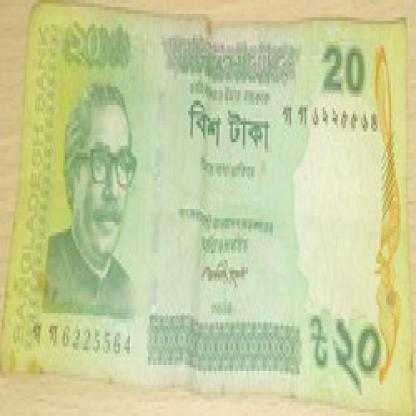Twenty: (300, 309, 404, 395), (315, 38, 411, 121), (173, 100, 285, 160), (48, 14, 126, 80)
